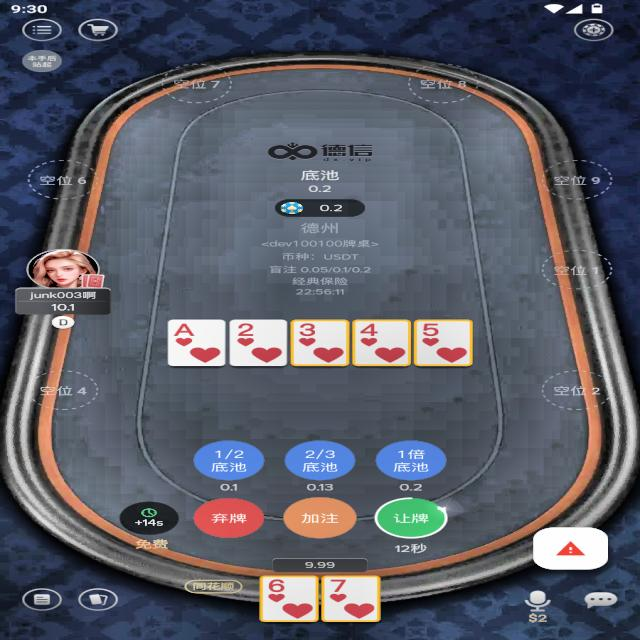2h: (236, 322, 256, 338)
3h: (294, 322, 324, 338)
4h: (358, 322, 380, 338)
5h: (418, 321, 446, 338)
6h: (264, 577, 290, 594)
7h: (326, 577, 349, 594)
Ah: (172, 321, 198, 338)
